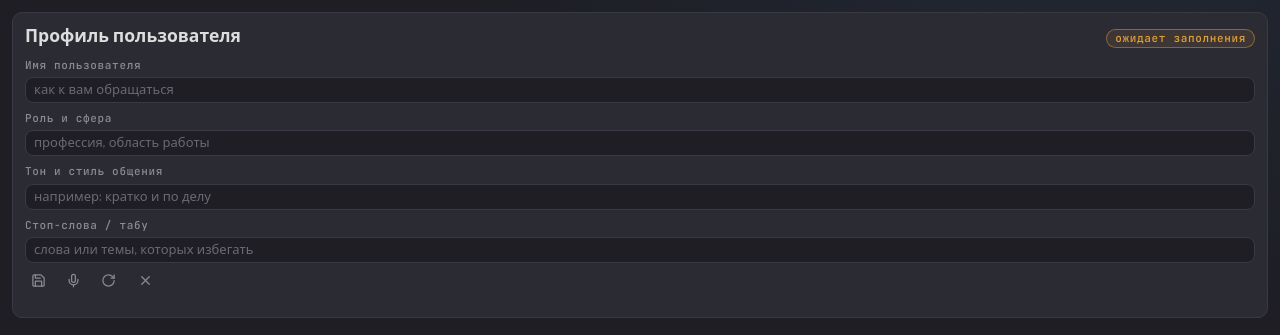
Test case: ProfileTab — вкладка «Профили» › «Сохранить» → POST /api/profile с 4 полями + dialogue_id
Expected: the heading "Профиль пользователя" is shown, [25,25,241,50]
Type "Мария" into the field labelled "Имя пользователя" at x=640, y=90, box [25,77,1255,103]
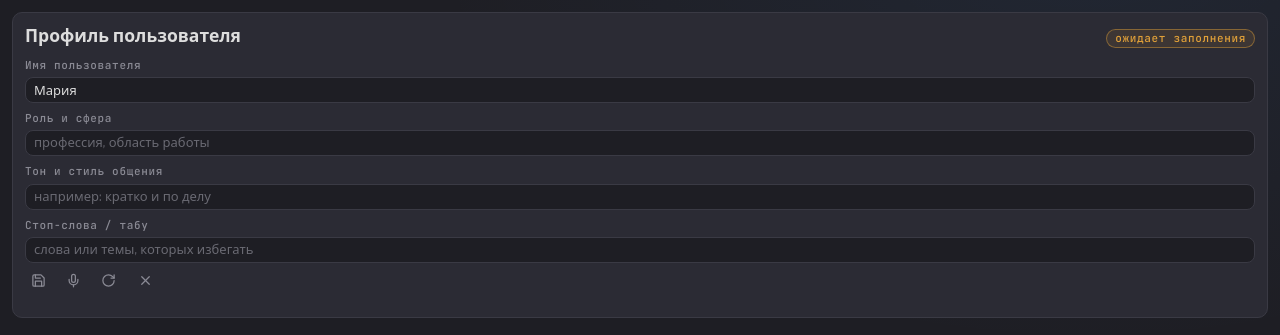
Type "дизайнер" into the field labelled "Роль и сфера" at x=640, y=143, box [25,130,1255,156]
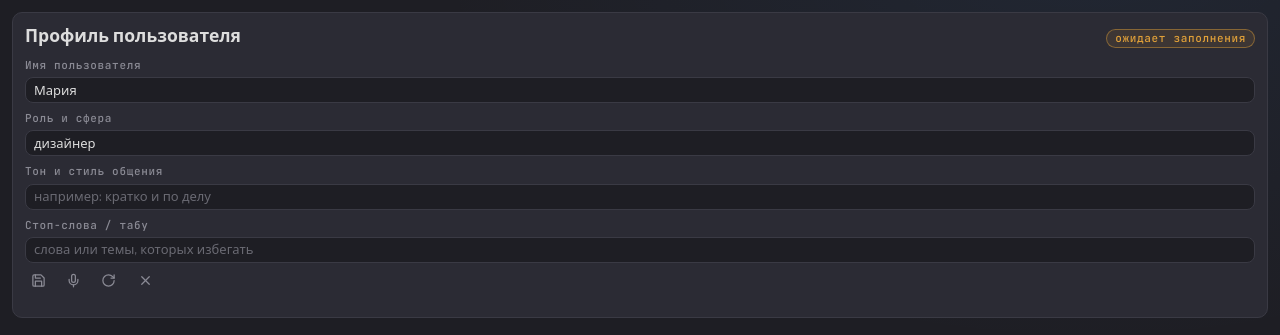
Click the button titled "Сохранить" at x=38, y=282, box [25,271,52,293]
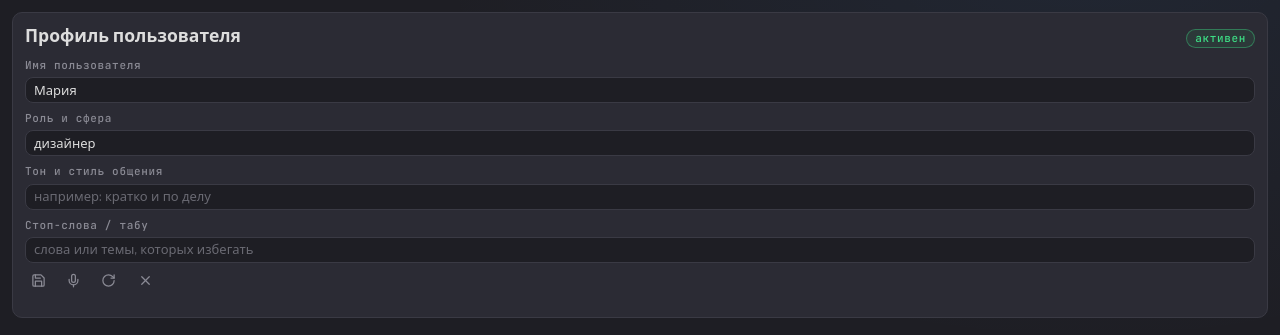
Now the text "активен" is shown, box [1186,29,1255,48]
